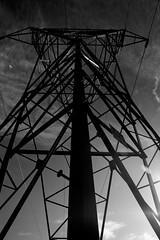power_tower: (0, 22, 160, 240)
